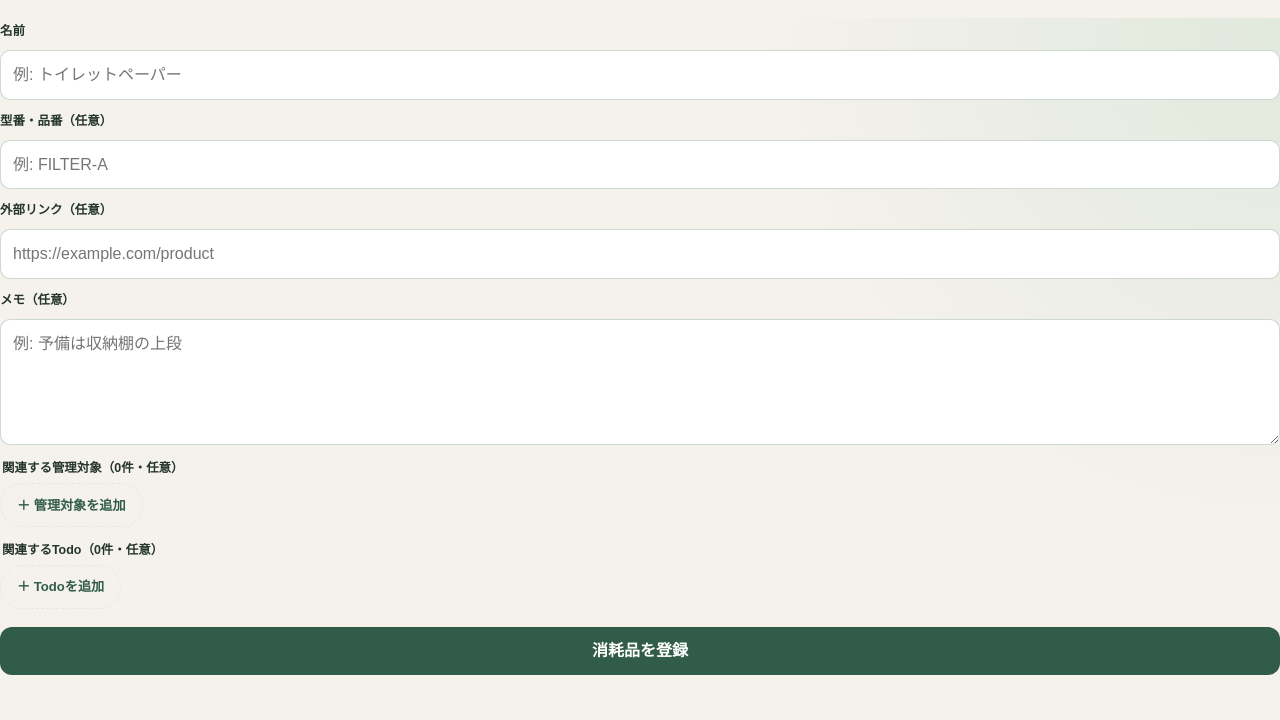
Scenario: 消耗品フォームの関連付け (Issue #292) › 候補の取得に失敗したら理由を伝え、再試行できる
Click the button "＋ 管理対象を追加". click: x=71, y=505
box: [0,483,143,527]
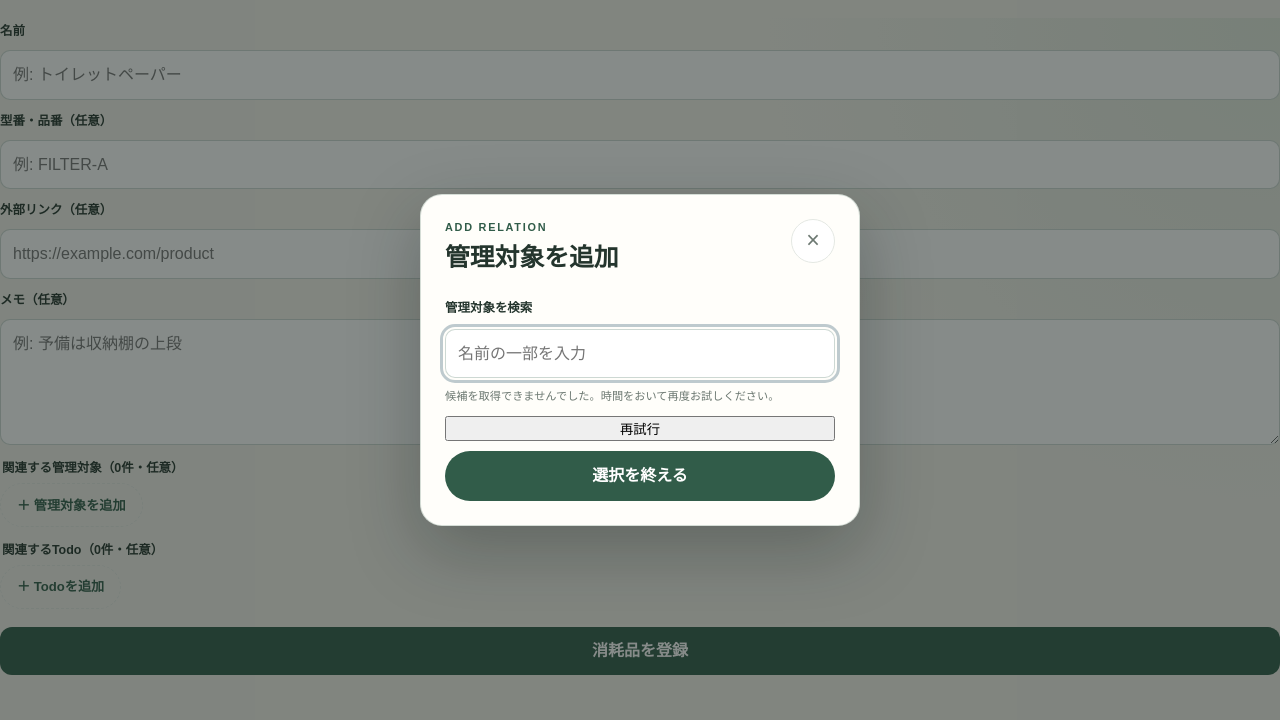
Now the text "候補を取得できませんでした。時間をおいて再度お試しください。" is shown, box [445,388,835,406]
Click the button "再試行". click: x=640, y=429
box: [445,416,835,441]
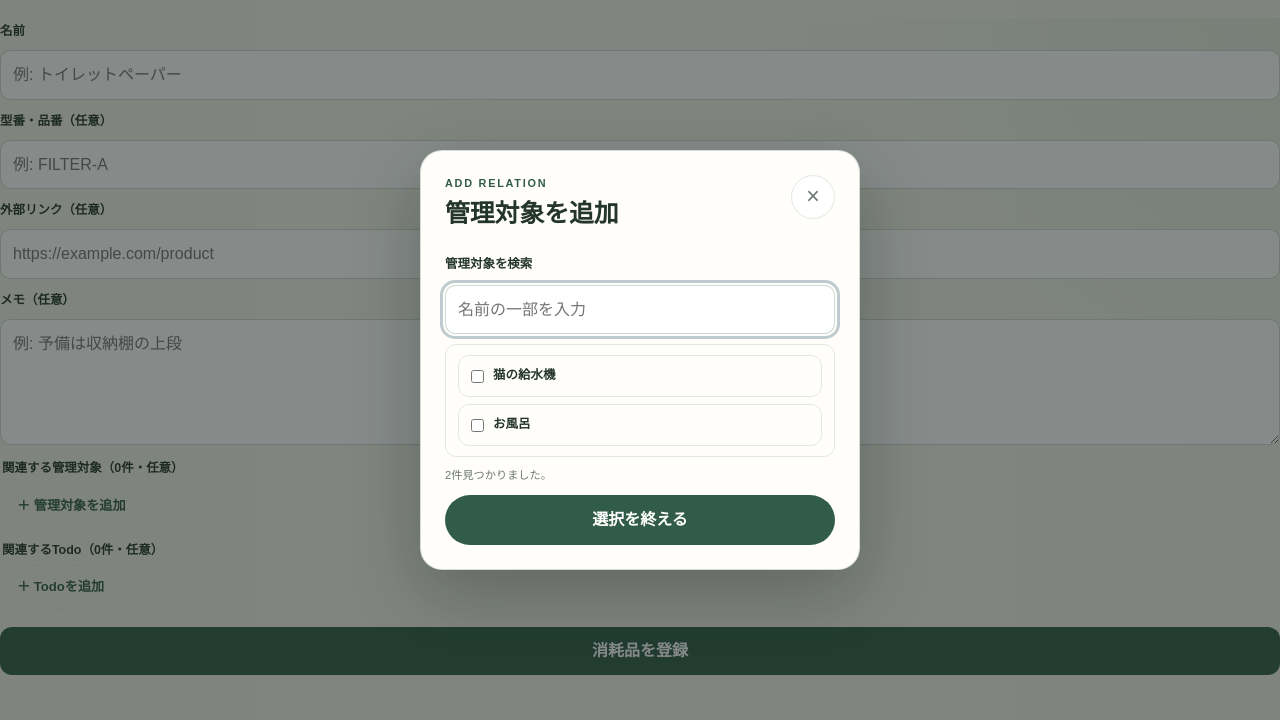
Now the checkbox labelled "猫の給水機" is shown, box [471,370,484,383]
